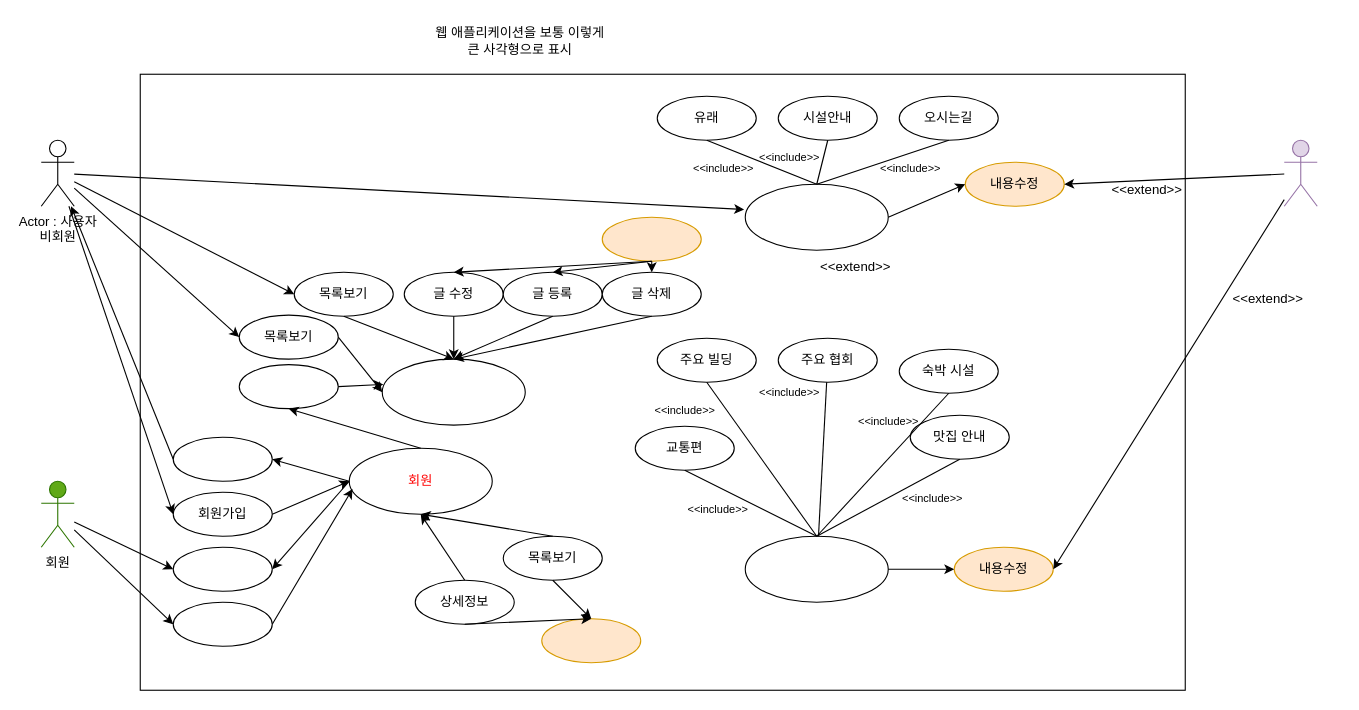
The diagram is 1359 pixels wide and 710 high, and some of its shapes have lost their labels. The centre of each missing label's shape, as x and y in pixels:
Actor : 사용자 관리자 회원: (x=1300, y=172)
공지사항: (x=453, y=391)
글관리: (x=651, y=238)
로그인: (x=222, y=623)
상세보기: (x=288, y=386)
이용 안내: (x=816, y=568)
지역소개: (x=816, y=216)
탈퇴: (x=222, y=458)
회원관리: (x=591, y=640)
회원정보수정: (x=222, y=568)
